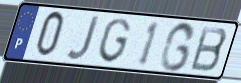0: (34, 9, 67, 61)
1: (137, 21, 161, 68)
B: (188, 24, 229, 74)
G: (158, 21, 197, 74), (95, 17, 133, 65)
J: (65, 14, 102, 62)
